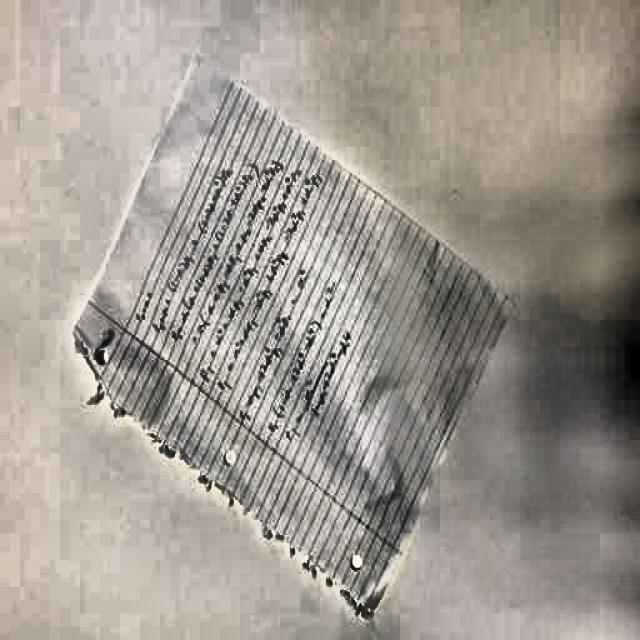paper: (80, 67, 493, 575)
